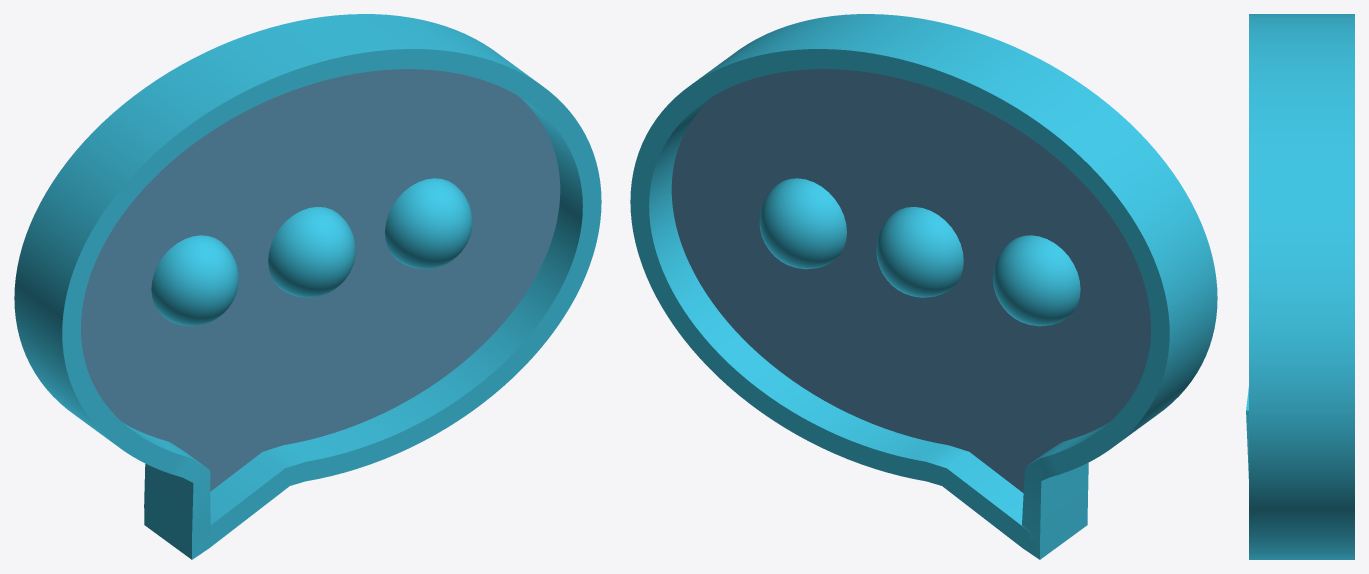
File: dialogue-icon-v2-solid.fbx
3 views of the same model, side by side, from view 1: azimuth 30°, elevation 25°; view 2: azimuth 150°, elevation 25°; view 3: azimuth 270°, elevation 25° (orthographic). The views are drawn at different scales.
Visible parts, largest first — view 1: Background - Cylinder, Border, Sphere Middle, Sphere Right, Sphere Left; view 2: Background - Cylinder, Border, Sphere Middle, Sphere Right, Sphere Left; view 3: Border.
Boxes of the visible parts, <box> form: Background - Cylinder: <box>81,69,560,491</box>; Border: <box>14,14,601,559</box>; Sphere Middle: <box>268,207,355,297</box>; Sphere Right: <box>385,178,472,269</box>; Sphere Left: <box>151,235,238,326</box>; Background - Cylinder: <box>671,69,1150,492</box>; Border: <box>630,14,1217,559</box>; Sphere Middle: <box>876,207,963,297</box>; Sphere Right: <box>759,178,846,269</box>; Sphere Left: <box>993,235,1080,326</box>; Border: <box>1246,14,1354,559</box>.
Size of the model in its own units: 115 by 95.47 by 18.24.
